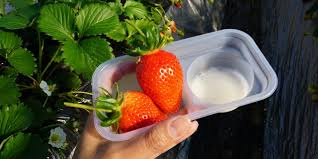ripe: (134, 43, 185, 115), (102, 89, 171, 135)
